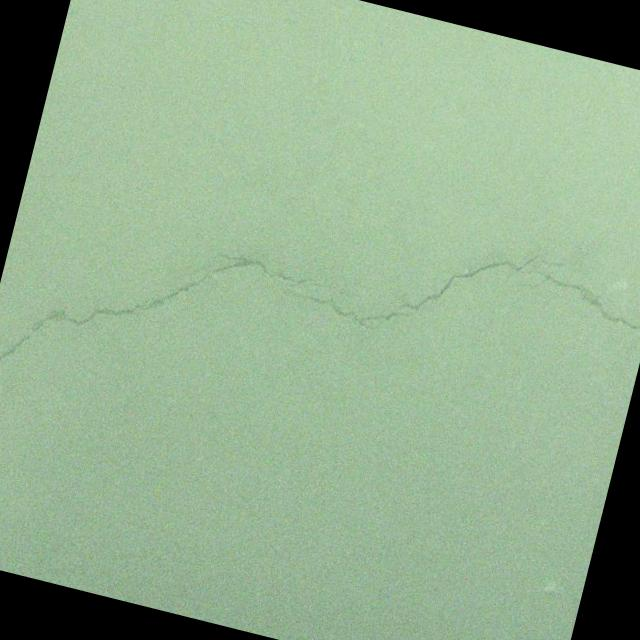crack: (0, 129, 640, 530)
